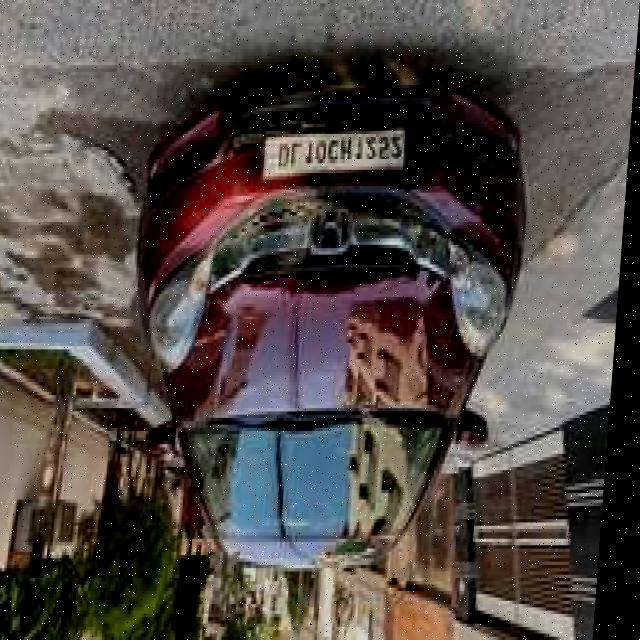plate: (265, 123, 408, 183)
